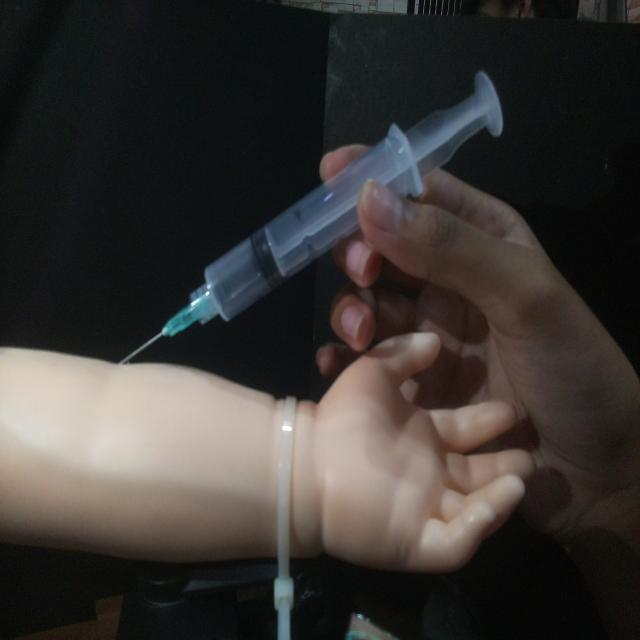30deg: (114, 65, 507, 368)
